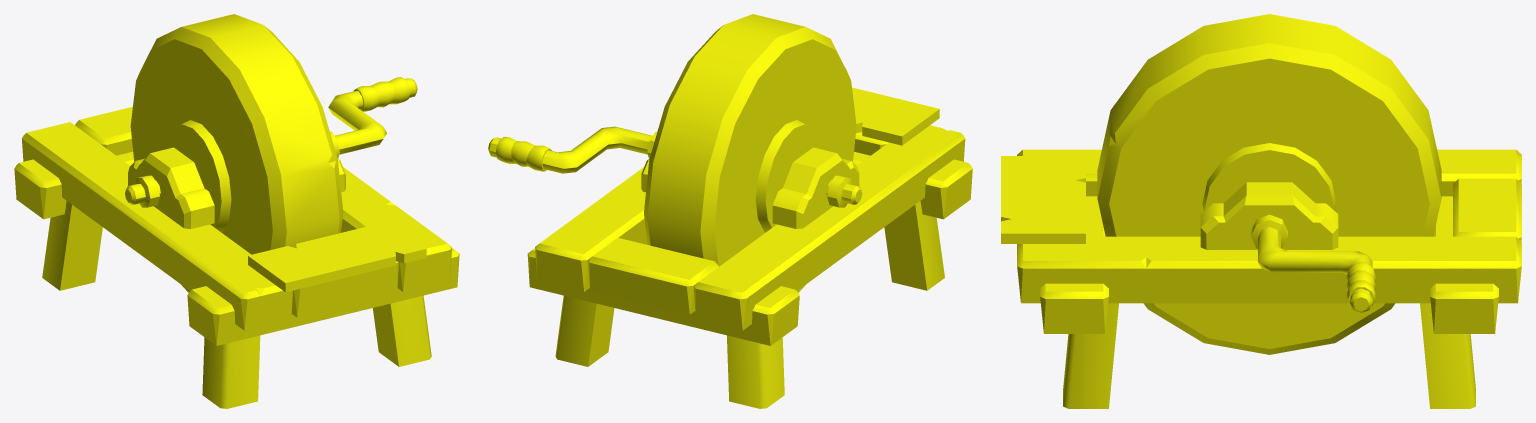
The model's file is kaykit-grindstone.glb.
3 renders of one model, left to right at view 1: azimuth 30°, elevation 25°; view 2: azimuth 150°, elevation 25°; view 3: azimuth 270°, elevation 25°, orthographic. The views are drawn at different scales.
Parts seen in each view (by area): view 1: grindstone; view 2: grindstone; view 3: grindstone.
Part boxes in pixels (x1=…): grindstone: x1=14, y1=14, x2=459, y2=408; grindstone: x1=488, y1=14, x2=972, y2=408; grindstone: x1=1001, y1=14, x2=1521, y2=408.
Bounding box in the file's own units: 1.94 × 1.55 × 2.27.
